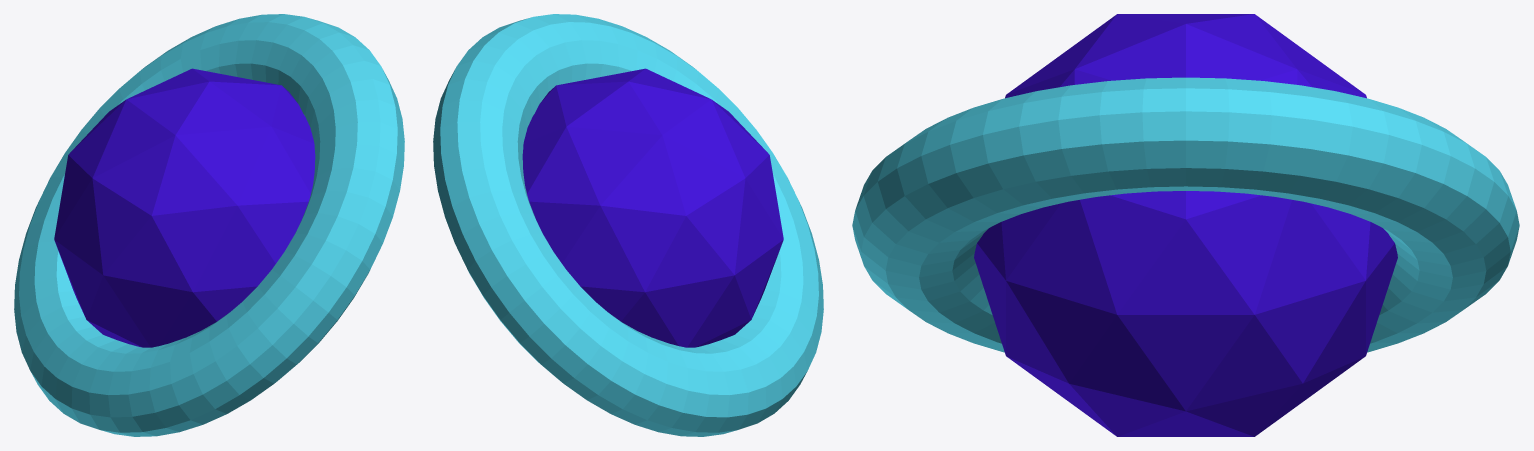
File: myTwoModels_2.gltf
3 renders of one model, left to right at view 1: azimuth 30°, elevation 25°; view 2: azimuth 150°, elevation 25°; view 3: azimuth 270°, elevation 25°, orthographic. The views are drawn at different scales.
Visible parts, largest first — view 1: Torus, Icosphere; view 2: Torus, Icosphere; view 3: Icosphere, Torus.
Boxes of the visible parts, x1,y1,x2,y2 form: Torus: [14, 14, 404, 436]; Icosphere: [54, 68, 315, 347]; Torus: [433, 14, 823, 436]; Icosphere: [522, 68, 783, 347]; Icosphere: [974, 14, 1397, 436]; Torus: [852, 77, 1519, 352].
Size of the model in its own units: 2.24 by 2.24 by 3.
